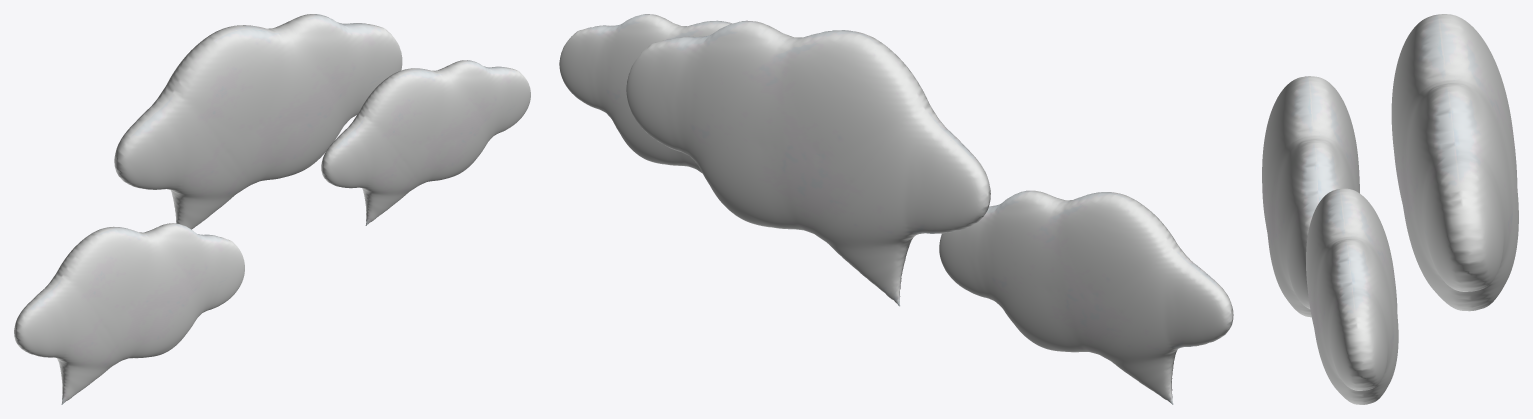
Rendered from clouds.fbx.
3 renders of one model, left to right at view 1: azimuth 30°, elevation 25°; view 2: azimuth 150°, elevation 25°; view 3: azimuth 270°, elevation 25°, orthographic. The views are drawn at different scales.
Parts seen in each view (by area): view 1: root (×3); view 2: root (×3); view 3: root (×3).
Part boxes in pixels (box(x1,y1,x2,y2)): root (×3): box(14, 14, 530, 404); root (×3): box(559, 14, 1233, 404); root (×3): box(1262, 14, 1518, 404).
Size of the model in its own units: 0.9171 by 0.4728 by 0.2647.
Materials: 1 (1 with a texture image).
